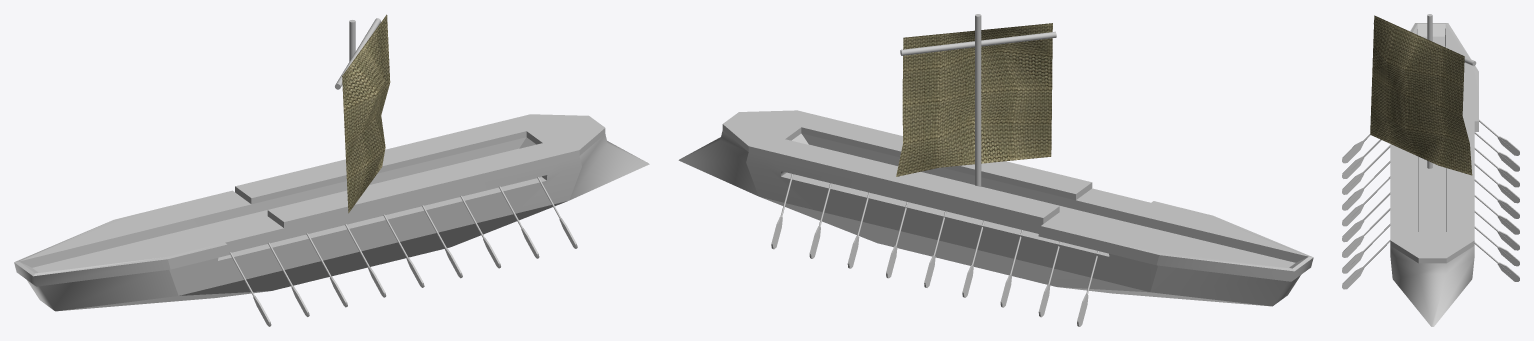
File: galera.FBX
The picture shows the model from 3 angles, left to right: view 1: azimuth 30°, elevation 25°; view 2: azimuth 150°, elevation 25°; view 3: azimuth 270°, elevation 25°; orthographic projection. The views are drawn at different scales.
Visible parts, largest first — view 1: Box01, Plane01; view 2: Box01, Plane01, Cylinder01, Cylinder02; view 3: Box01, Plane01, Box05, Box10, Box09, Box06, Box04, Box07, Box08, Box17, Box14, Box19 (+9 smaller).
Part boxes in pixels (x1,y1,x2,y2): Box01: [14, 114, 649, 311]; Plane01: [342, 14, 390, 213]; Box01: [678, 110, 1313, 306]; Plane01: [896, 23, 1052, 176]; Cylinder01: [975, 14, 981, 186]; Cylinder02: [900, 31, 1056, 55]; Box01: [1390, 23, 1478, 326]; Plane01: [1370, 15, 1472, 175]; Box05: [1342, 161, 1390, 210]; Box10: [1342, 240, 1390, 289]; Box09: [1342, 224, 1390, 273]; Box06: [1342, 176, 1390, 226]; Box04: [1342, 145, 1390, 194]; Box07: [1342, 192, 1390, 242]; Box08: [1342, 208, 1390, 257]; Box17: [1474, 210, 1519, 250]; Box14: [1474, 163, 1519, 203]; Box19: [1474, 242, 1519, 281].
Size of the model in its own units: 120 by 34.4 by 44.67.
